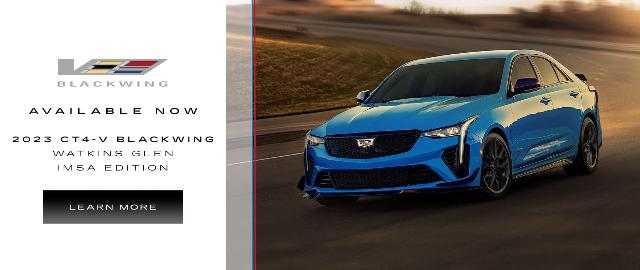cadillac: (297, 50, 603, 206)
